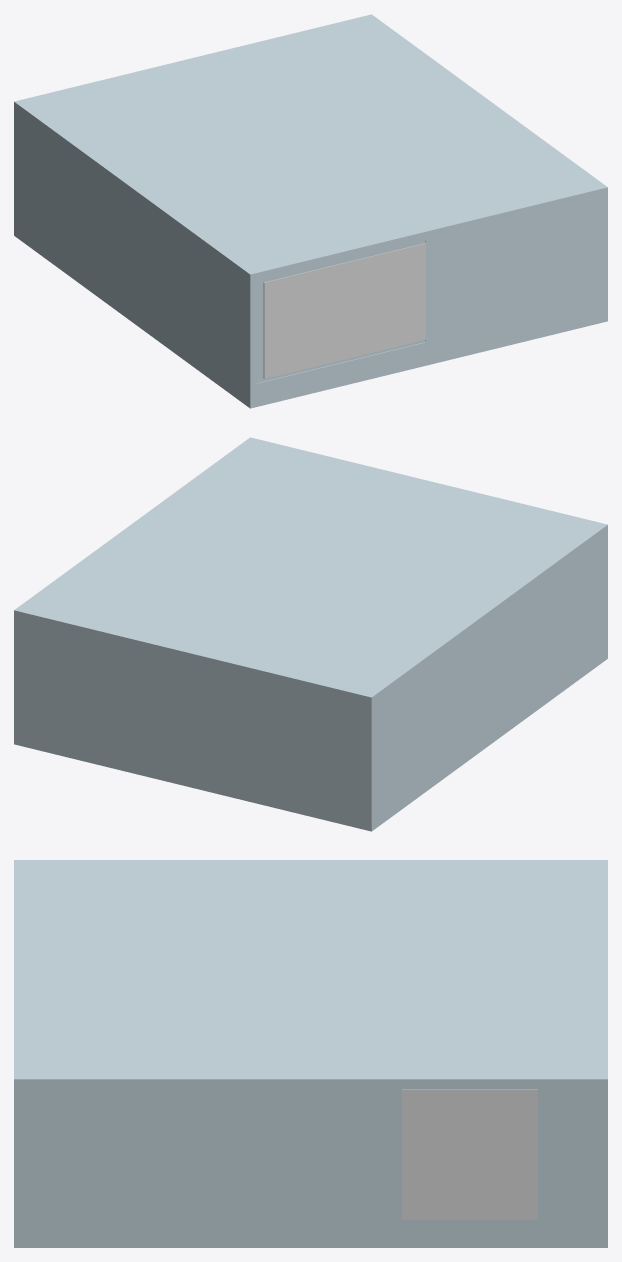
The model's file is CafeRoom.fbx.
3 views of the same model, one above another, from view 1: azimuth 30°, elevation 25°; view 2: azimuth 150°, elevation 25°; view 3: azimuth 270°, elevation 25° (orthographic). The views are drawn at different scales.
Parts seen in each view (by area): view 1: Room; view 2: Room; view 3: Room.
Part boxes in pixels (bbox=[...]): Room: bbox=[14, 14, 607, 408]; Room: bbox=[14, 437, 607, 831]; Room: bbox=[14, 860, 607, 1247].
Size of the model in its own units: 1849 by 662 by 2114.
